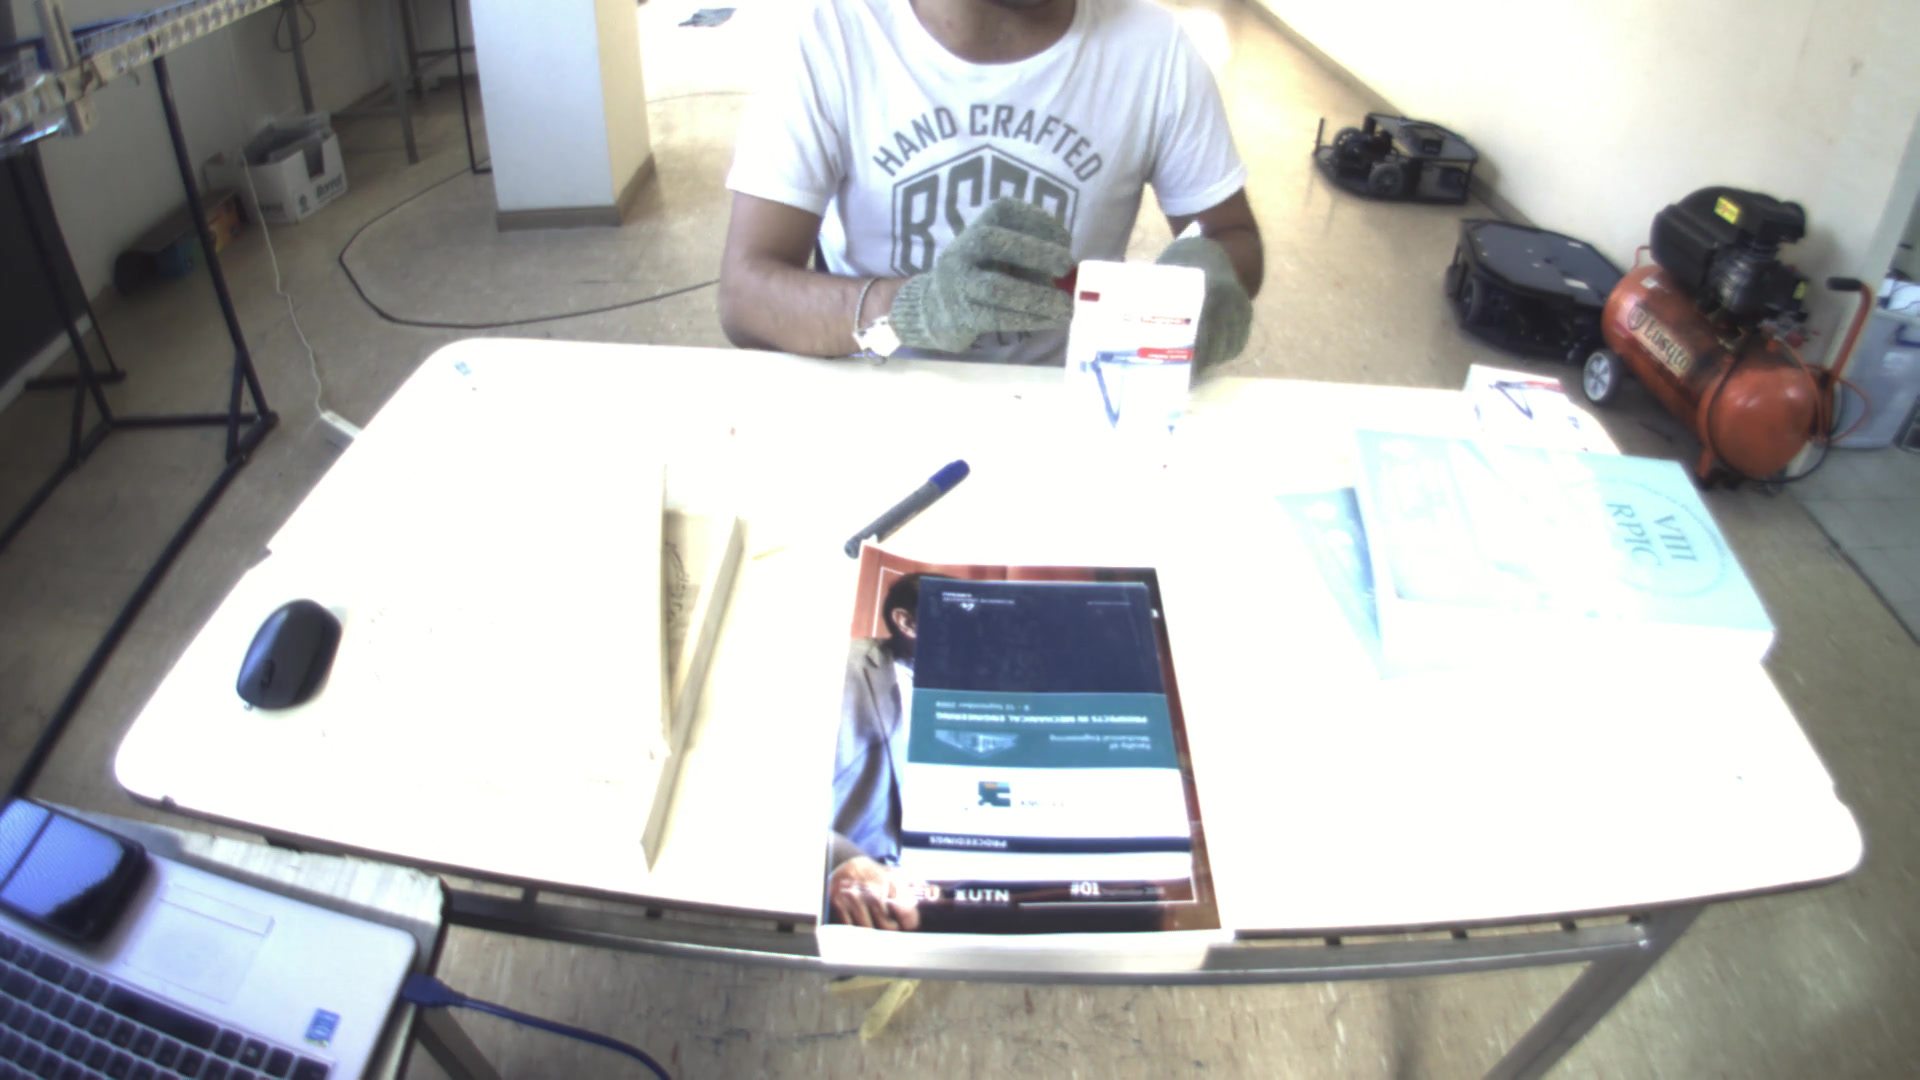hand: (880, 196, 1085, 353), (1142, 241, 1253, 367)
